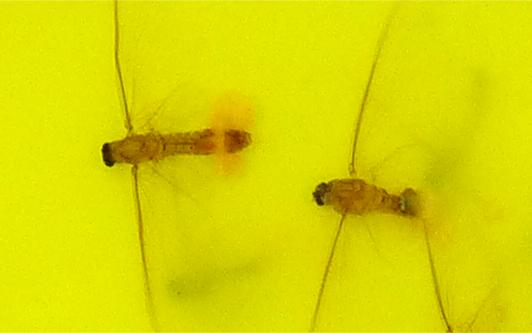Ephemeroptera: (100, 100, 256, 199), (312, 131, 432, 233)
